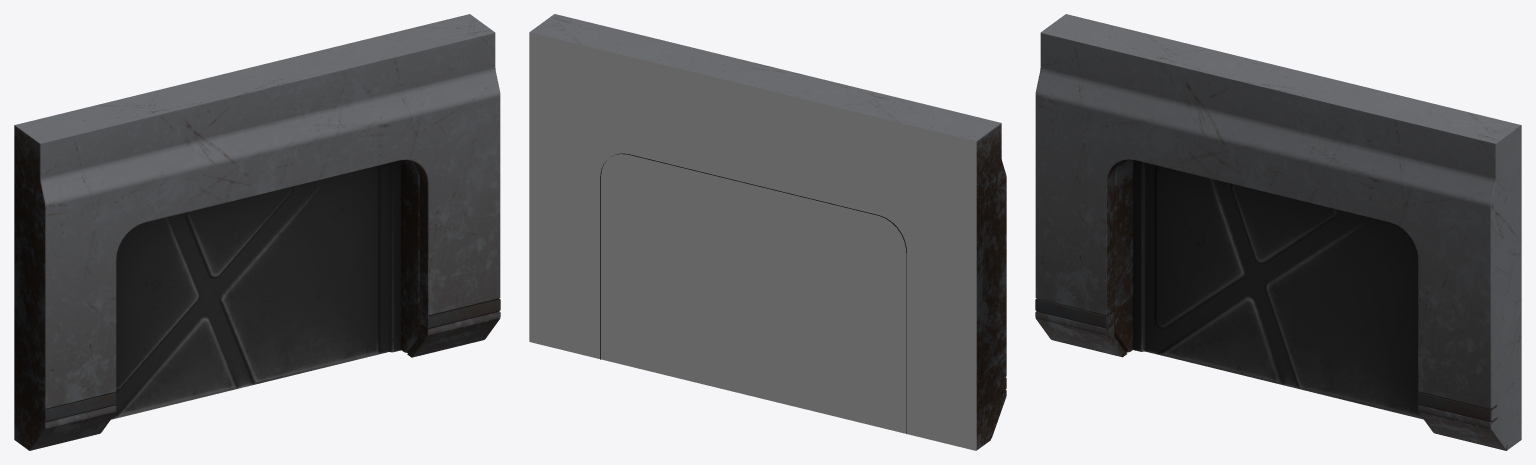
Rendered from SM_HangarWall03.fbx.
The picture shows the model from 3 angles, left to right: view 1: azimuth 30°, elevation 25°; view 2: azimuth 150°, elevation 25°; view 3: azimuth 330°, elevation 25°; orthographic projection.
Visible parts, largest first — view 1: SM_HangarWall03_LOD0; view 2: SM_HangarWall03_LOD0; view 3: SM_HangarWall03_LOD0.
Part boxes in pixels (x1,y1,x2,y2): SM_HangarWall03_LOD0: (14,14,500,450); SM_HangarWall03_LOD0: (529,14,1006,450); SM_HangarWall03_LOD0: (1035,14,1521,450).
Size of the model in its own units: 600 by 71.65 by 397.
Materials: 2 (1 with a texture image).
